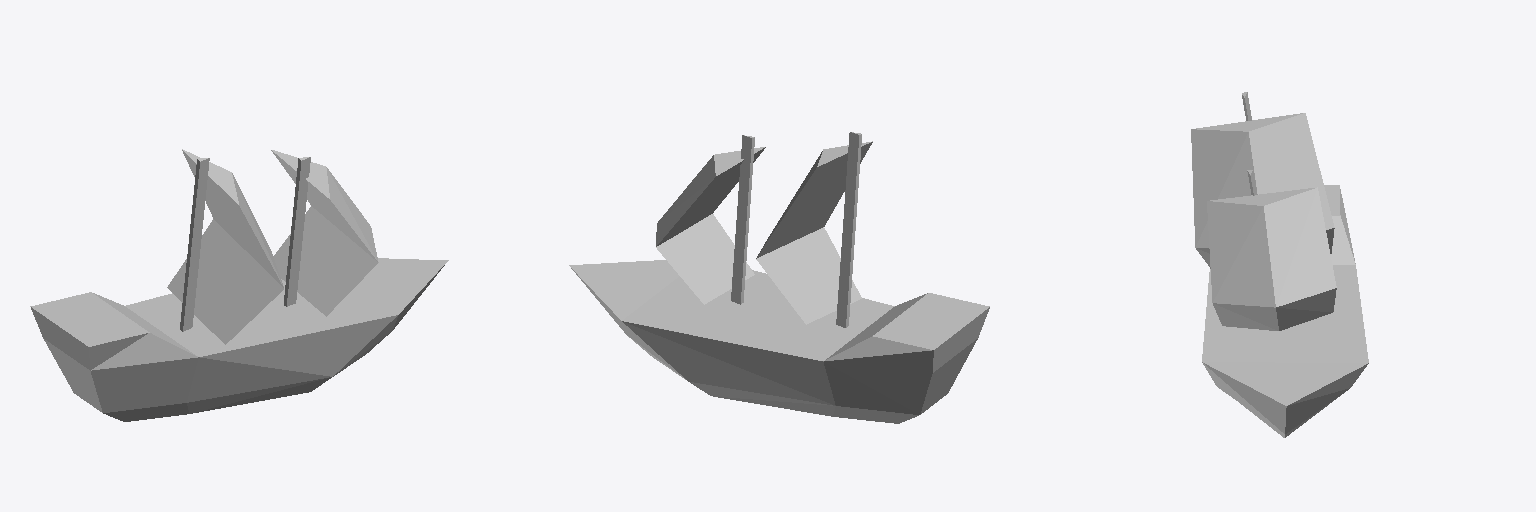
File: boat1.obj
3 views of the same model, side by side, from view 1: azimuth 30°, elevation 25°; view 2: azimuth 150°, elevation 25°; view 3: azimuth 270°, elevation 25° (orthographic).
Visible parts, largest first — view 1: Hull, Sail0, Sail1, Mast0, Mast1; view 2: Hull, Sail0, Sail1, Mast0, Mast1; view 3: Hull, Sail1, Sail0.
Part boxes in pixels (x1,y1,x2,y2): Hull: (30, 258, 448, 421); Sail0: (167, 149, 283, 344); Sail1: (271, 150, 378, 316); Mast0: (180, 158, 209, 331); Mast1: (284, 157, 310, 306); Hull: (569, 260, 989, 423); Sail0: (756, 141, 872, 324); Sail1: (656, 147, 765, 304); Mast0: (836, 132, 861, 327); Mast1: (731, 135, 754, 304); Hull: (1202, 185, 1368, 437); Sail1: (1207, 187, 1336, 330); Sail0: (1191, 113, 1334, 268).
Bounding box in the file's own units: 46.81 × 29.08 × 18.42.